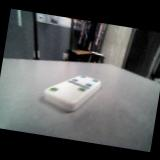domino: (44, 75, 100, 111)
